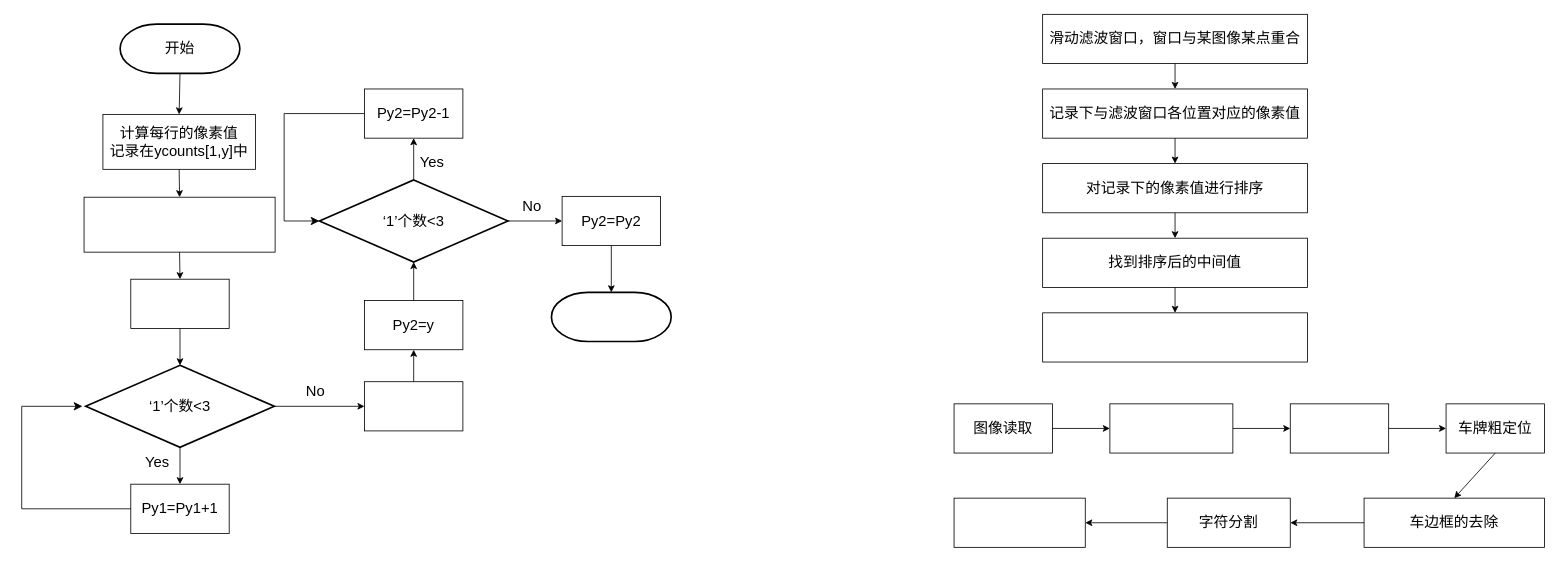
Some shapes in this 1559 by 562 pixel diagram are drawn without their labels. Here are the shapes that lost their labels. From the top down, the centre of each, then its label:
At (179,224): "求ycounts中的最大值及 最大值所在的位置pymax".
At (179,303): "Py1=1".
At (611,316): "结束".
At (1174,337): "将中间值赋予窗口中心对应的像素".
At (413,406): "Py1=Py1".
At (1171,428): "彩色图像灰度化".
At (1339,428): "图像预处理".
At (1019,522): "字符识别".
